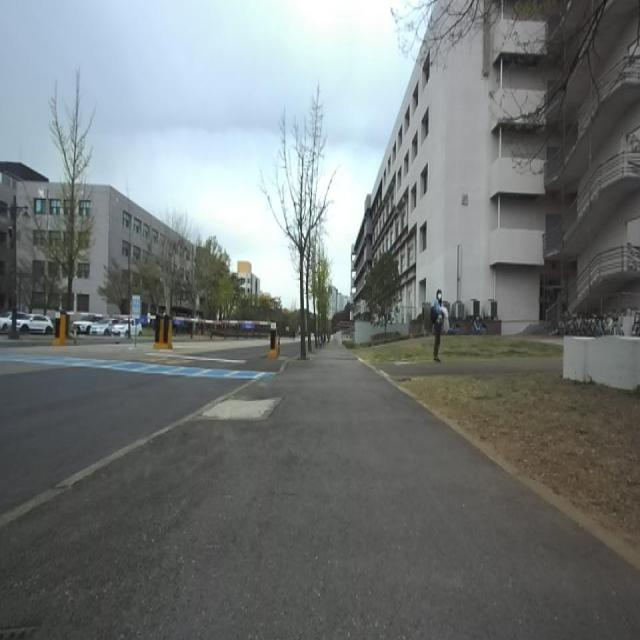sidewalk: (0, 344, 640, 639), (0, 375, 271, 528)
